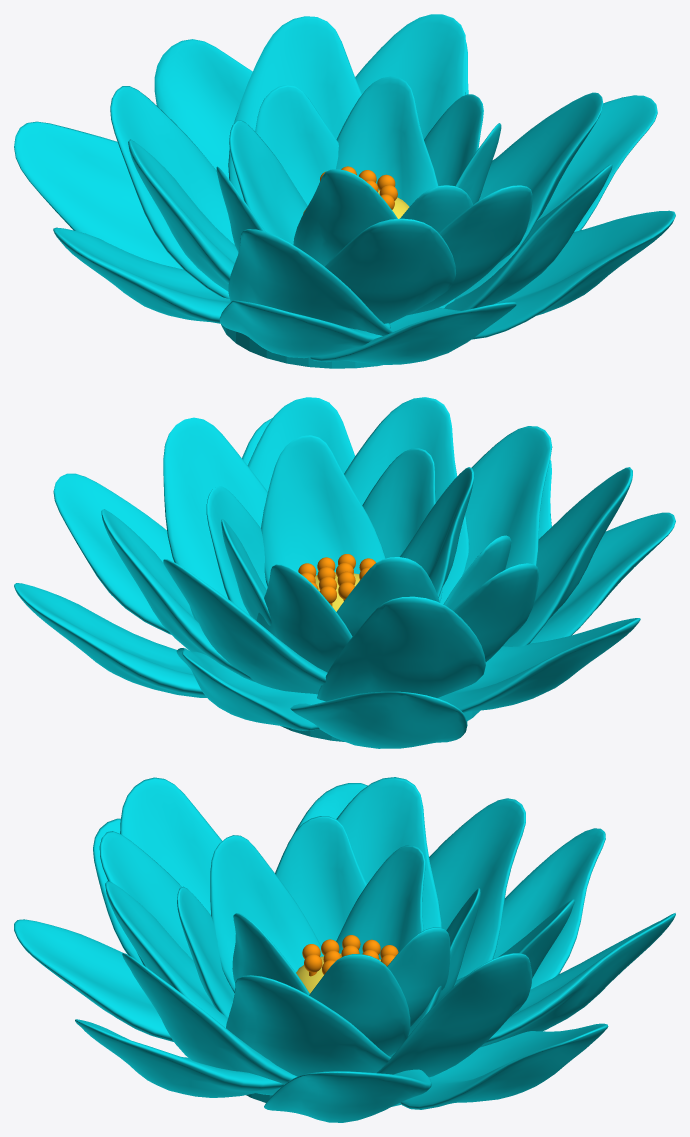
The model's file is lf-teal.gltf.
3 renders of one model, top to bottom at view 1: azimuth 30°, elevation 25°; view 2: azimuth 150°, elevation 25°; view 3: azimuth 270°, elevation 25°, orthographic.
Parts seen in each view (by area): view 1: petal04, pollen; view 2: petal04, pollen; view 3: petal04, pollen.
Part boxes in pixels (x1,y1,x2,y2): petal04: (14, 14, 675, 368); pollen: (320, 166, 397, 209); petal04: (14, 397, 675, 748); pollen: (298, 554, 375, 606); petal04: (14, 777, 675, 1122); pollen: (302, 935, 398, 976).
Bounding box in the file's own units: 1.19 × 0.3949 × 1.16.
